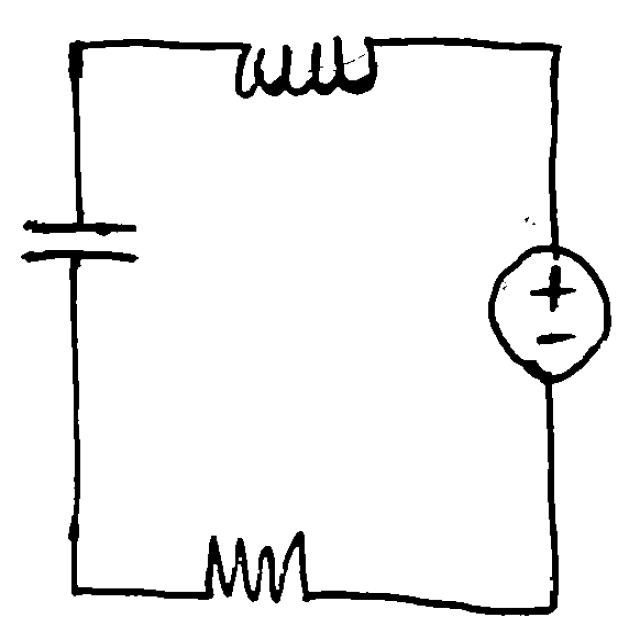capacitor: (10, 204, 149, 280)
dc: (475, 226, 617, 393)
inductor: (214, 24, 390, 108)
resistor: (187, 513, 330, 621)
